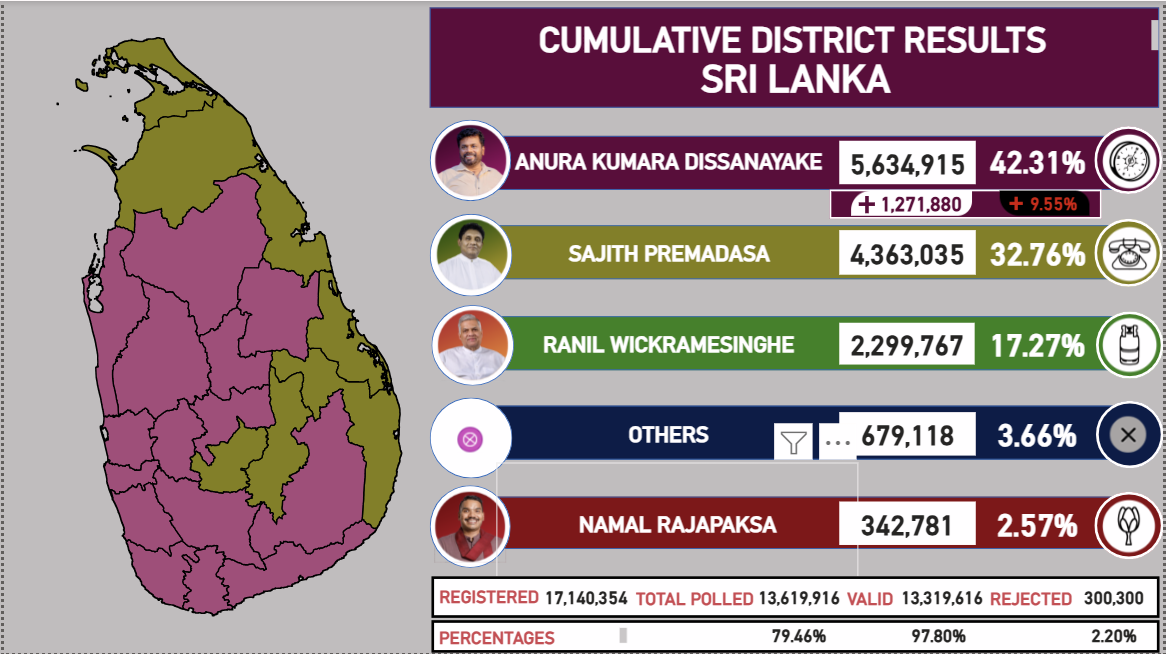

What the dashboard file says about the page in this screenshot:
{"tool":"powerbi","page":{"name":"Districts","canvas":[1280,720],"ordinal":0},"visuals":[{"type":"shape","title":"5th Position Shape","box":[544,547.8,709.9,57.8],"z":0},{"type":"shape","title":"4th Position Shape","box":[544,447.2,711.7,59.6],"z":1000},{"type":"shape","title":"3rd Position Shape","box":[532.9,348.4,711.7,59.6],"z":2000},{"type":"shape","title":"2nd Position Shape","box":[536.6,247.8,711.7,59.6],"z":3000},{"type":"shape","title":"1st Position Shape","box":[529.1,149.1,711.7,59.6],"z":4000},{"type":"shapeMap","fields":{"Category":["Votes.District"]},"box":[1.4,0,494.4,719.6],"z":5000},{"type":"card","fields":{"Values":["Sum(Votes.Vote_Count)"]},"box":[922.8,154.1,151.1,47.9],"z":6000},{"type":"card","fields":{"Values":["Sum(Votes.Vote_Count)"]},"box":[922.8,356,149.6,46.4],"z":7000},{"type":"card","fields":{"Values":["Sum(Votes.Vote_Count)"]},"box":[922.8,453.2,151.1,47.9],"z":8000},{"type":"card","fields":{"Values":["Sum(Votes.Vote_Count)"]},"box":[922.8,252.8,151.1,49.4],"z":9000},{"type":"card","fields":{"Values":["Measures_.AKD_Vote_Percentage"]},"box":[1072.3,141.6,137.2,66.4],"z":10000},{"type":"card","fields":{"Values":["Measures_.SJB_Vote_Percentage"]},"box":[1073.2,244.1,137.9,65.2],"z":11000},{"type":"card","fields":{"Values":["Measures_.UNP_Vote_Percentage"]},"box":[1072.4,345.5,136.1,61.3],"z":12000},{"type":"card","fields":{"Values":["Measures_.Others_Vote_Percentage"]},"box":[1072.3,442.5,135.7,66.4],"z":13000},{"type":"shape","box":[470.4,131.5,90,90],"z":14000},{"type":"shape","box":[469.5,234.8,91.3,91.3],"z":15000},{"type":"shape","box":[471.4,335.4,91.3,89.4],"z":16000},{"type":"shape","box":[469.5,437.8,91.3,89.4],"z":17000},{"type":"shape","box":[1204.9,138.3,75,75],"z":18000},{"type":"shape","box":[1204.9,240.7,75.3,75.3],"z":19000},{"type":"shape","box":[1205.5,342.8,74.5,74.5],"z":20000},{"type":"shape","box":[1205.5,441.6,74.5,74.5],"z":21000},{"type":"card","fields":{"Values":["Votes.FirstTopCandidateName"]},"box":[532.9,109.9,402.4,134.1],"z":22000},{"type":"card","fields":{"Values":["Votes.SecondTopCandidateName"]},"box":[544,210.5,382,136],"z":23000},{"type":"card","fields":{"Values":["Votes.ThirdTopCandidateName"]},"box":[532.9,311.1,402.4,136],"z":24000},{"type":"card","fields":{"Values":["Votes.FourthTopCandidateName"]},"box":[532.9,411.8,402.4,134.1],"z":25000},{"type":"shape","box":[1203.6,542.2,76.4,74.5],"z":26000},{"type":"shape","box":[469.5,534.7,89.4,91.3],"z":27000},{"type":"imageDB603108E3FF4EBFB8047F5653368E8C","fields":{"imageUrl":["Election_Images.Candidate_Image"]},"box":[471.4,234.8,90,90],"z":28000},{"type":"imageDB603108E3FF4EBFB8047F5653368E8C","fields":{"imageUrl":["Election_Images.Candidate_Image"]},"box":[470.4,131.5,90.5,90.5],"z":29000},{"type":"imageDB603108E3FF4EBFB8047F5653368E8C","fields":{"imageUrl":["Election_Images.Candidate_Image"]},"box":[471.4,335.4,91.3,89.4],"z":30000},{"type":"imageDB603108E3FF4EBFB8047F5653368E8C","fields":{"imageUrl":["Election_Images.Candidate_Image"]},"box":[469.5,534.7,89.4,91.3],"z":31000},{"type":"imageDB603108E3FF4EBFB8047F5653368E8C","fields":{"imageUrl":["Election_Images.Party_Image"]},"box":[1208,141.6,70.8,70.8],"z":32000},{"type":"imageDB603108E3FF4EBFB8047F5653368E8C","fields":{"imageUrl":["Election_Images.Party_Image"]},"box":[1208,243.4,70.8,70.8],"z":33000},{"type":"imageDB603108E3FF4EBFB8047F5653368E8C","fields":{"imageUrl":["Election_Images.Party_Image"]},"box":[1207.3,344.7,70.8,70.8],"z":34000},{"type":"imageDB603108E3FF4EBFB8047F5653368E8C","fields":{"imageUrl":["Election_Images.Party_Image"]},"box":[1206.5,444,70.8,70.8],"z":35000},{"type":"imageDB603108E3FF4EBFB8047F5653368E8C","fields":{"imageUrl":["Election_Images.Party_Image"]},"box":[1207.3,545.9,68.9,68.9],"z":36000},{"type":"imageDB603108E3FF4EBFB8047F5653368E8C","fields":{"imageUrl":["Election_Images.Candidate_Image"]},"box":[469.5,439.7,89.4,89.4],"z":37000},{"type":"card","fields":{"Values":["Measures_.5thTopCandidateName"]},"box":[544,510.5,400.6,134.1],"z":38000},{"type":"card","fields":{"Values":["Sum(Votes.Vote_Count)"]},"box":[922.8,551.9,151.1,47.9],"z":39000},{"type":"card","fields":{"Values":["Measures_.SLPP_Vote_Percentage"]},"box":[1072.4,542.9,136.1,64.3],"z":40000},{"type":"shape","box":[471.1,635.2,804.2,46],"z":41000},{"type":"shape","box":[471.1,683.6,804.2,36],"z":42000},{"type":"textbox","box":[476.1,642.6,130.5,36],"z":43000},{"type":"textbox","box":[693.6,645.1,159.1,46],"z":44000},{"type":"textbox","box":[926,645.1,72.1,46],"z":45000},{"type":"textbox","box":[1083.9,645.1,110.6,46],"z":46000},{"type":"textbox","box":[476.1,687.4,217.5,28.6],"z":47000},{"type":"card","fields":{"Values":["Sum(Valid_Votes.Registered)"]},"box":[582.9,637.6,119.3,43.5],"z":48000},{"type":"card","fields":{"Values":["Sum(Valid_Votes.Total_Polled)"]},"box":[817.9,637.6,119.3,43.5],"z":49000},{"type":"card","fields":{"Values":["Sum(Valid_Votes.Total_Valid)"]},"box":[975.7,637.6,119.3,43.5],"z":50000},{"type":"card","fields":{"Values":["Measures_.Rejected_Votes"]},"box":[1172.1,637.6,108.1,43.5],"z":51000},{"type":"card","fields":{"Values":["Measures_.Polled_Percentage"]},"box":[817.9,681.1,119.3,38.5],"z":52000},{"type":"card","fields":{"Values":["Measures_.Valid_Percentage"]},"box":[973.2,681.1,119.3,38.5],"z":53000},{"type":"card","fields":{"Values":["Measures_.Rejected_Percentage"]},"box":[1172.1,681.1,108.1,38.5],"z":54000},{"type":"shape","box":[469.8,7.5,805.4,110.6],"z":55000},{"type":"card","title":"District","fields":{"Values":["Measures_.District_Display"]},"box":[509.6,46,729.6,69.6],"z":56000},{"type":"shape","box":[911,207.3,300.6,32.4],"z":57000},{"type":"image","box":[1095,188.8,108.8,70],"z":58000},{"type":"image","box":[852.3,204.2,299.6,37.9],"z":59000},{"type":"card","fields":{"Values":["Measures_.Vote_Difference"]},"box":[953,194.8,119.7,57],"z":60000},{"type":"card","fields":{"Values":["Measures_.Percentage_Difference"]},"box":[1118.8,210,82.5,28.8],"z":61000},{"type":"image","box":[1105.4,210.8,24.6,26.9],"z":62000},{"type":"shape","box":[944.4,215.2,18,18],"z":63000},{"type":"shape","box":[944.6,215.2,18.1,19.1],"z":64000},{"type":"textbox","box":[470.4,15.5,809.9,47.9],"z":65000}]}

Visuals, with their boxes in screenshot pixels (x1, y1, x2, y2), scaled from the page's 1280x720 canvas onto the 1166x654 screenshot:
"5th Position Shape" shape: [left=496, top=498, right=1142, bottom=550]
"4th Position Shape" shape: [left=496, top=406, right=1144, bottom=460]
"3rd Position Shape" shape: [left=485, top=316, right=1134, bottom=371]
"2nd Position Shape" shape: [left=489, top=225, right=1137, bottom=279]
"1st Position Shape" shape: [left=482, top=135, right=1130, bottom=190]
shapeMap - Votes.District: [left=1, top=0, right=452, bottom=653]
card - Sum(Votes.Vote_Count): [left=841, top=140, right=978, bottom=183]
card - Sum(Votes.Vote_Count): [left=841, top=323, right=977, bottom=366]
card - Sum(Votes.Vote_Count): [left=841, top=412, right=978, bottom=455]
card - Sum(Votes.Vote_Count): [left=841, top=230, right=978, bottom=274]
card - Measures_.AKD_Vote_Percentage: [left=977, top=129, right=1102, bottom=189]
card - Measures_.SJB_Vote_Percentage: [left=978, top=222, right=1103, bottom=281]
card - Measures_.UNP_Vote_Percentage: [left=977, top=314, right=1101, bottom=370]
card - Measures_.Others_Vote_Percentage: [left=977, top=402, right=1100, bottom=462]
shape: [left=429, top=119, right=510, bottom=201]
shape: [left=428, top=213, right=511, bottom=296]
shape: [left=429, top=305, right=513, bottom=386]
shape: [left=428, top=398, right=511, bottom=479]
shape: [left=1098, top=126, right=1165, bottom=194]
shape: [left=1098, top=219, right=1165, bottom=287]
shape: [left=1098, top=311, right=1165, bottom=379]
shape: [left=1098, top=401, right=1165, bottom=469]
card - Votes.FirstTopCandidateName: [left=485, top=100, right=852, bottom=222]
card - Votes.SecondTopCandidateName: [left=496, top=191, right=844, bottom=315]
card - Votes.ThirdTopCandidateName: [left=485, top=283, right=852, bottom=406]
card - Votes.FourthTopCandidateName: [left=485, top=374, right=852, bottom=496]
shape: [left=1096, top=492, right=1165, bottom=560]
shape: [left=428, top=486, right=509, bottom=569]
imageDB603108E3FF4EBFB8047F5653368E8C - Election_Images.Candidate_Image: [left=429, top=213, right=511, bottom=295]
imageDB603108E3FF4EBFB8047F5653368E8C - Election_Images.Candidate_Image: [left=429, top=119, right=511, bottom=202]
imageDB603108E3FF4EBFB8047F5653368E8C - Election_Images.Candidate_Image: [left=429, top=305, right=513, bottom=386]
imageDB603108E3FF4EBFB8047F5653368E8C - Election_Images.Candidate_Image: [left=428, top=486, right=509, bottom=569]
imageDB603108E3FF4EBFB8047F5653368E8C - Election_Images.Party_Image: [left=1100, top=129, right=1165, bottom=193]
imageDB603108E3FF4EBFB8047F5653368E8C - Election_Images.Party_Image: [left=1100, top=221, right=1165, bottom=285]
imageDB603108E3FF4EBFB8047F5653368E8C - Election_Images.Party_Image: [left=1100, top=313, right=1164, bottom=377]
imageDB603108E3FF4EBFB8047F5653368E8C - Election_Images.Party_Image: [left=1099, top=403, right=1164, bottom=468]
imageDB603108E3FF4EBFB8047F5653368E8C - Election_Images.Party_Image: [left=1100, top=496, right=1163, bottom=558]
imageDB603108E3FF4EBFB8047F5653368E8C - Election_Images.Candidate_Image: [left=428, top=399, right=509, bottom=481]
card - Measures_.5thTopCandidateName: [left=496, top=464, right=860, bottom=586]
card - Sum(Votes.Vote_Count): [left=841, top=501, right=978, bottom=545]
card - Measures_.SLPP_Vote_Percentage: [left=977, top=493, right=1101, bottom=552]
shape: [left=429, top=577, right=1162, bottom=619]
shape: [left=429, top=621, right=1162, bottom=653]
textbox: [left=434, top=584, right=553, bottom=616]
textbox: [left=632, top=586, right=777, bottom=628]
textbox: [left=844, top=586, right=909, bottom=628]
textbox: [left=987, top=586, right=1088, bottom=628]
textbox: [left=434, top=624, right=632, bottom=650]
card - Sum(Valid_Votes.Registered): [left=531, top=579, right=640, bottom=619]
card - Sum(Valid_Votes.Total_Polled): [left=745, top=579, right=854, bottom=619]
card - Sum(Valid_Votes.Total_Valid): [left=889, top=579, right=997, bottom=619]
card - Measures_.Rejected_Votes: [left=1068, top=579, right=1165, bottom=619]
card - Measures_.Polled_Percentage: [left=745, top=619, right=854, bottom=653]
card - Measures_.Valid_Percentage: [left=887, top=619, right=995, bottom=653]
card - Measures_.Rejected_Percentage: [left=1068, top=619, right=1165, bottom=653]
shape: [left=428, top=7, right=1162, bottom=107]
"District" card: [left=464, top=42, right=1129, bottom=105]
shape: [left=830, top=188, right=1104, bottom=218]
image: [left=997, top=171, right=1097, bottom=235]
image: [left=776, top=185, right=1049, bottom=220]
card - Measures_.Vote_Difference: [left=868, top=177, right=977, bottom=229]
card - Measures_.Percentage_Difference: [left=1019, top=191, right=1094, bottom=217]
image: [left=1007, top=191, right=1029, bottom=216]
shape: [left=860, top=195, right=877, bottom=212]
shape: [left=860, top=195, right=877, bottom=213]
textbox: [left=429, top=14, right=1165, bottom=58]
